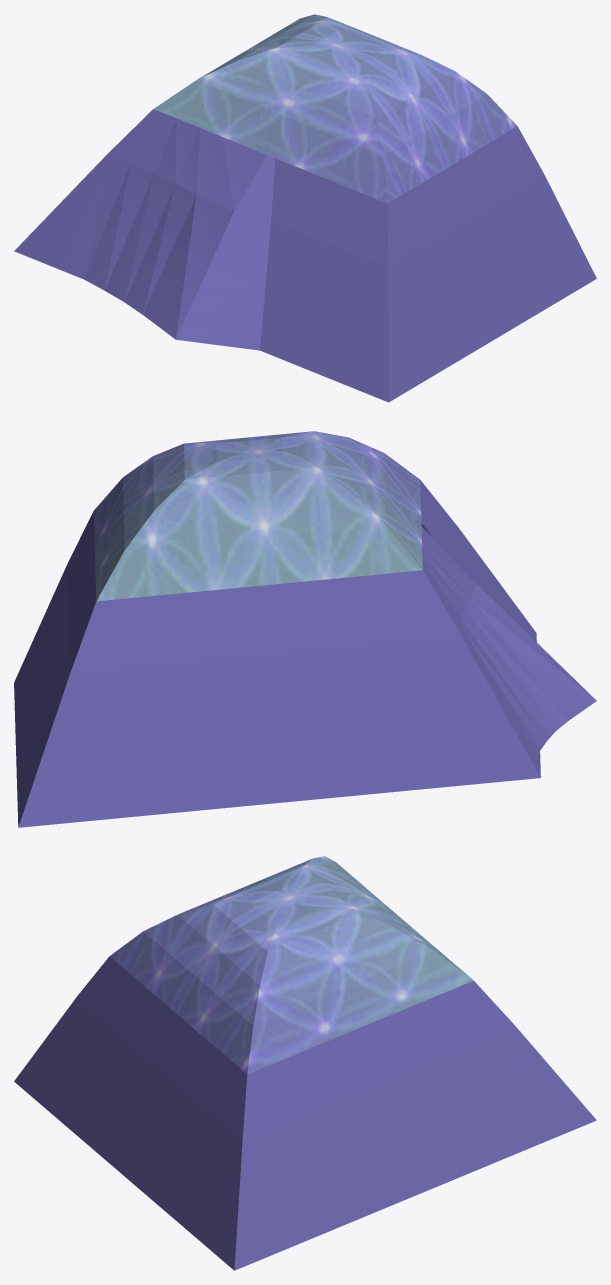
Rendered from flyingtent.glb.
The picture shows the model from 3 angles, top to bottom: view 1: azimuth 30°, elevation 25°; view 2: azimuth 150°, elevation 25°; view 3: azimuth 270°, elevation 25°; orthographic projection. The views are drawn at different scales.
Parts seen in each view (by area): view 1: Plane.052; view 2: Plane.052; view 3: Plane.052.
Part boxes in pixels (bbox=[...]): Plane.052: bbox=[14, 14, 596, 402]; Plane.052: bbox=[14, 431, 596, 827]; Plane.052: bbox=[14, 856, 596, 1270].
Bounding box in the file's own units: 2.84 × 1.46 × 2.88.
1 material, 1 textured.
